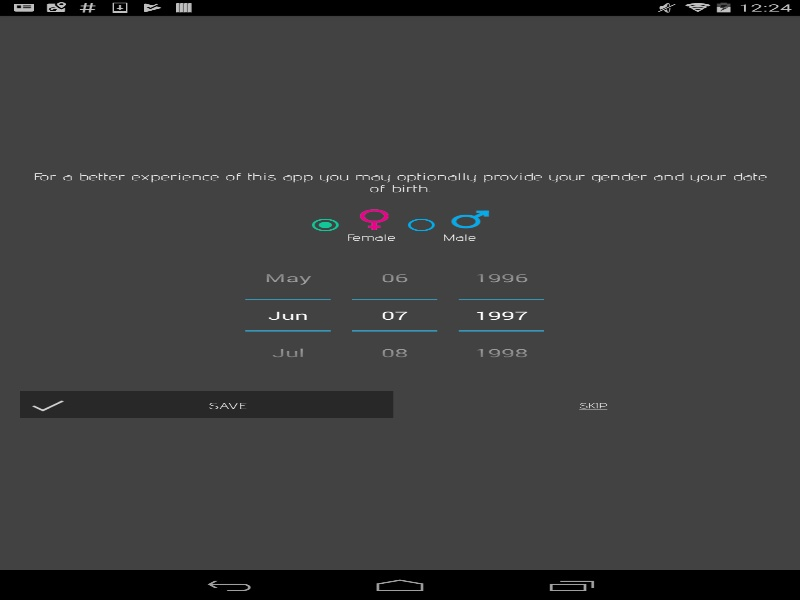Button: (406, 390, 780, 420), (20, 390, 393, 420), (458, 259, 544, 300), (458, 330, 544, 371), (245, 259, 330, 300), (245, 330, 330, 371), (352, 259, 437, 300), (352, 330, 437, 371)
Input: (458, 300, 544, 330), (245, 300, 330, 330), (352, 300, 437, 330)
